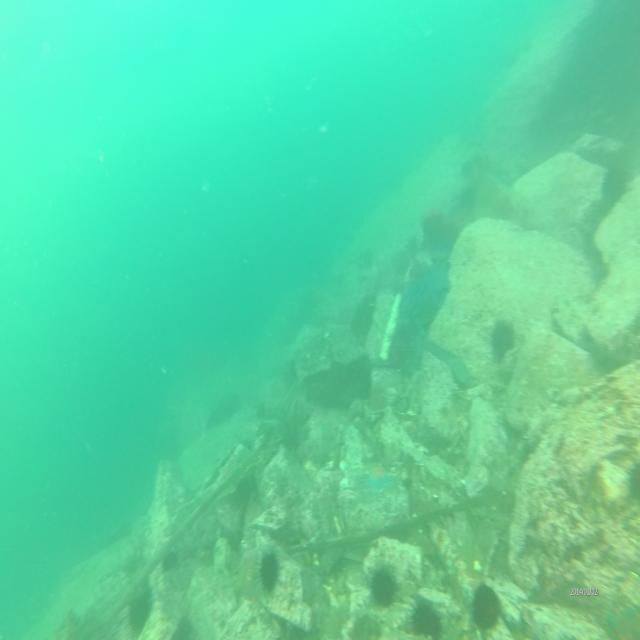echinus: (469, 579, 500, 633), (406, 594, 440, 640), (126, 586, 152, 636), (370, 562, 395, 610), (254, 548, 280, 594), (491, 316, 517, 359), (160, 544, 179, 576)
starfish: (363, 461, 392, 495)
